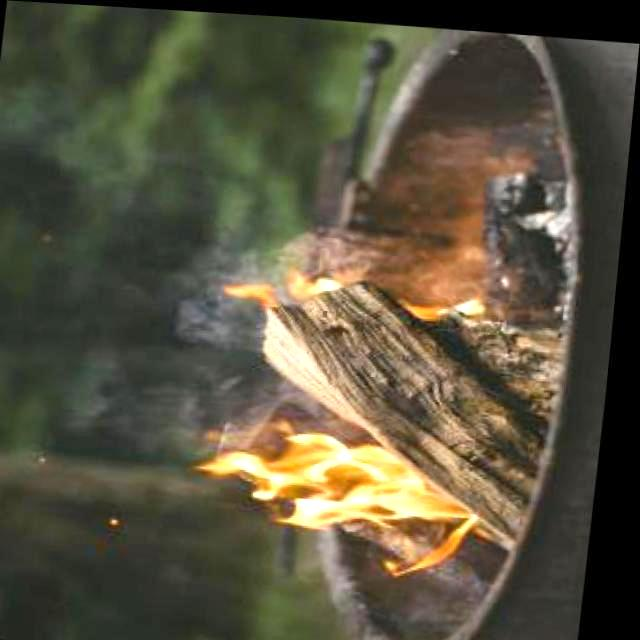fire: (206, 416, 494, 560), (208, 256, 488, 332)
